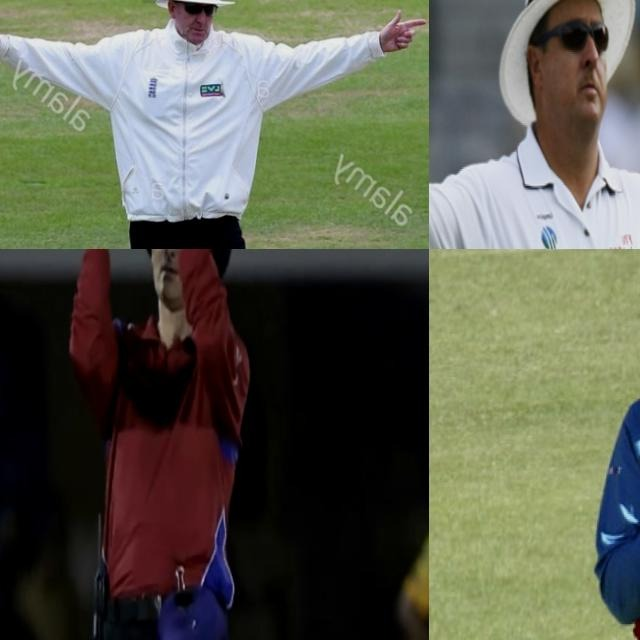Out: (467, 249, 640, 640)
Six: (63, 249, 263, 640)
Wide: (0, 0, 429, 249), (429, 0, 640, 249)
